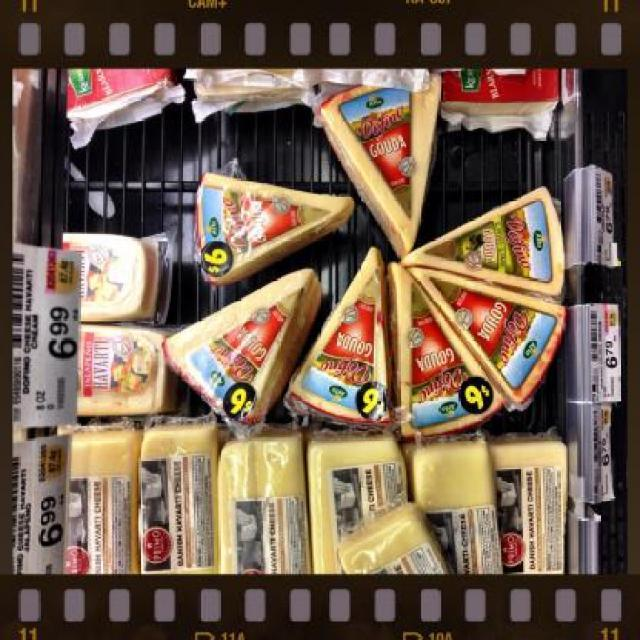Cheese: (54, 69, 570, 574)
